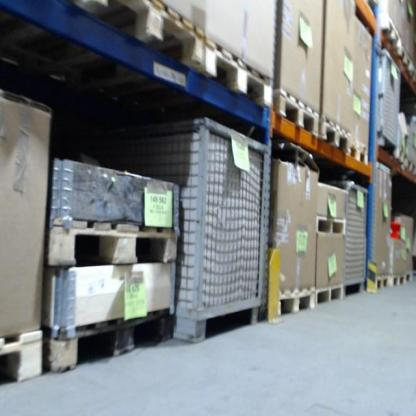pallet: (44, 306, 179, 371), (72, 1, 200, 68), (46, 213, 178, 265), (199, 35, 275, 111), (0, 327, 45, 388), (273, 87, 320, 141), (273, 285, 316, 320), (379, 9, 404, 60), (322, 115, 352, 156), (313, 281, 345, 310), (313, 215, 348, 235), (350, 138, 369, 165), (373, 274, 392, 292), (389, 271, 407, 290)
stillage: (92, 106, 268, 346), (327, 173, 365, 296), (372, 48, 404, 160)
